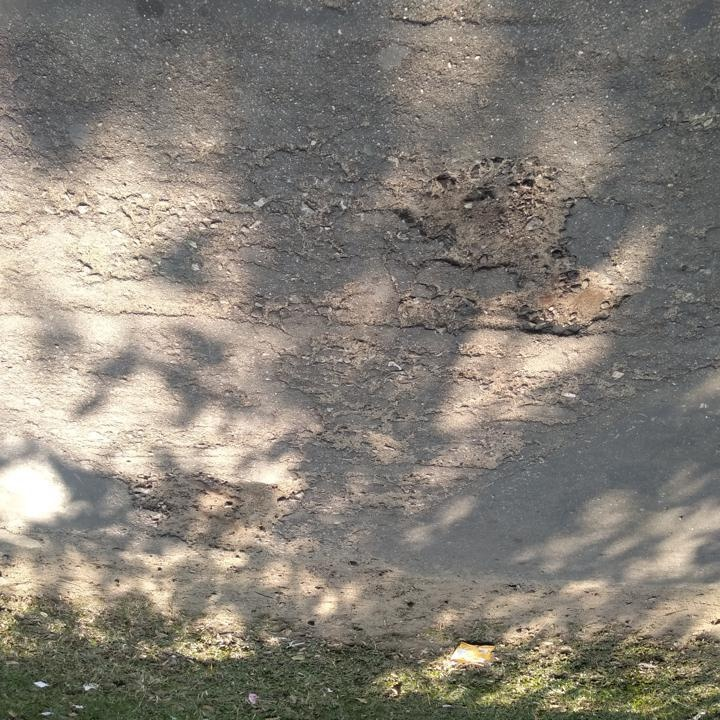pothole: (394, 154, 579, 276), (117, 469, 310, 556), (509, 269, 631, 343)
